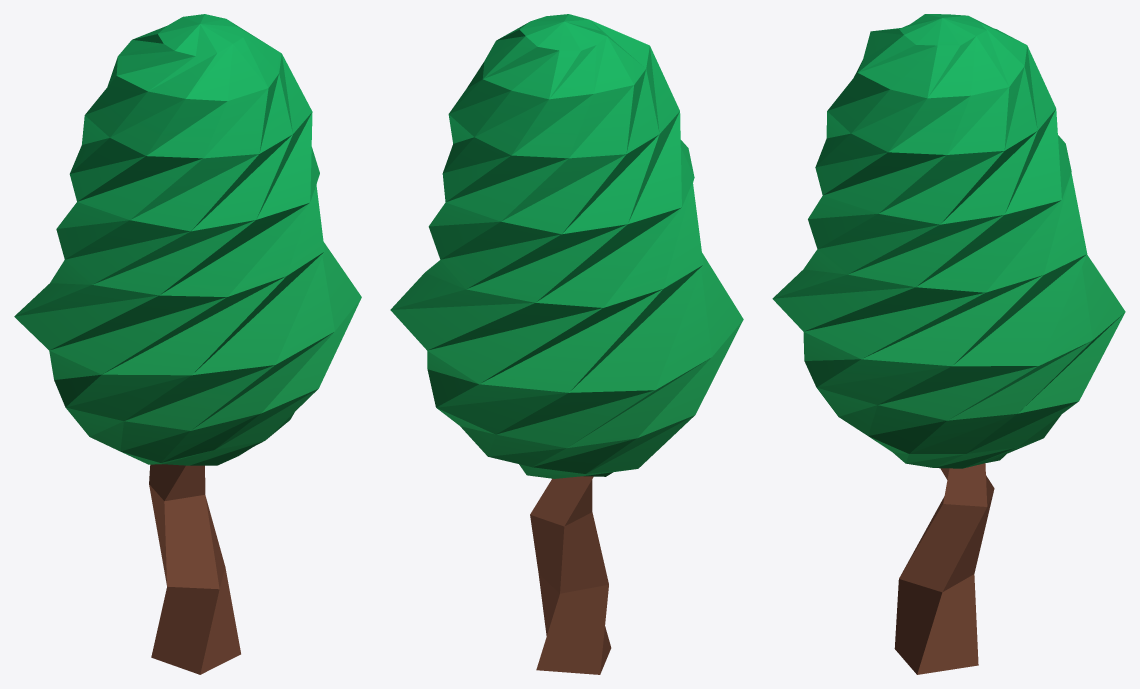
The model's file is Tree_14_gradient_green_vc.fbx.
The picture shows the model from 3 angles, left to right: view 1: azimuth 30°, elevation 25°; view 2: azimuth 150°, elevation 25°; view 3: azimuth 270°, elevation 25°; orthographic projection. The views are drawn at different scales.
Visible parts, largest first — view 1: Tree_14_gradient_green_vc; view 2: Tree_14_gradient_green_vc; view 3: Tree_14_gradient_green_vc.
Part boxes in pixels (x1=…): Tree_14_gradient_green_vc: x1=14, y1=14, x2=361, y2=674; Tree_14_gradient_green_vc: x1=390, y1=14, x2=743, y2=674; Tree_14_gradient_green_vc: x1=772, y1=14, x2=1125, y2=674.
Size of the model in its own units: 104 by 223 by 111.
